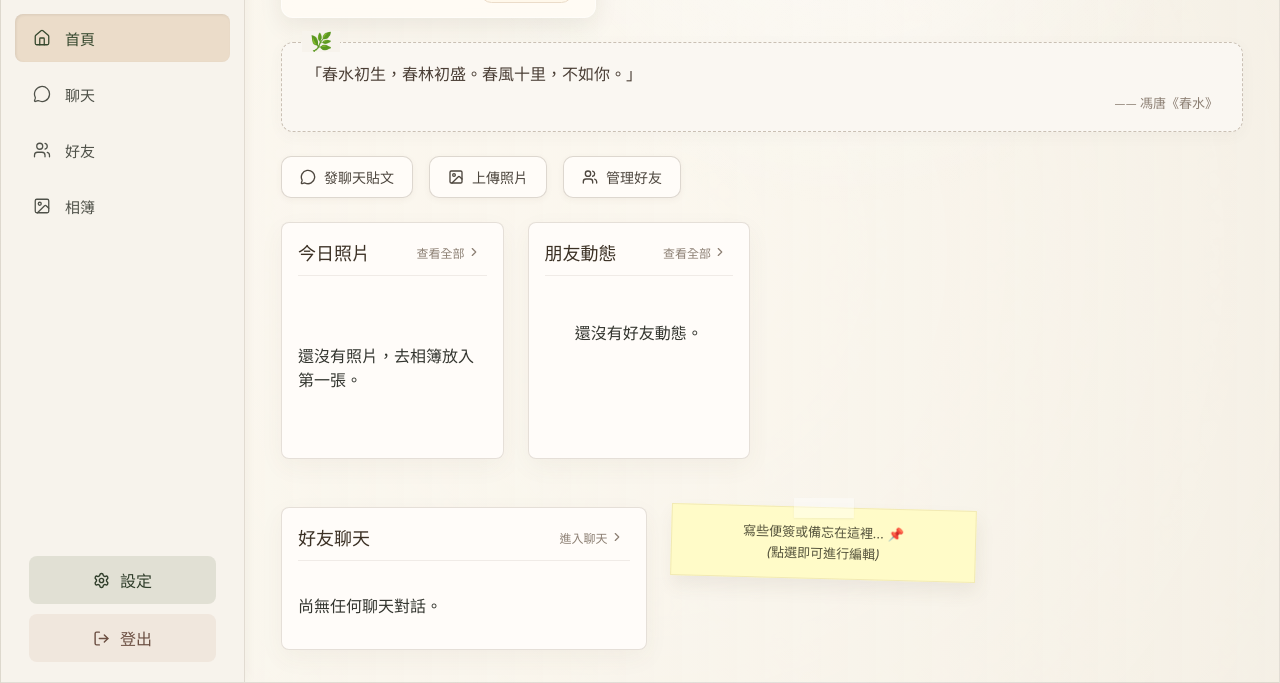
Test: Warm Desk Garden app shell › does not expose a restore-demo-data action in settings
(page scrolled)
Expected: the button "首頁" is shown, x1=15 y1=14 x2=230 y2=62
What coordinates should you click on to do the following:
click the button "設定"
I would click on:
 (122, 580)
Its box is x1=29 y1=556 x2=216 y2=604.
(page scrolled)
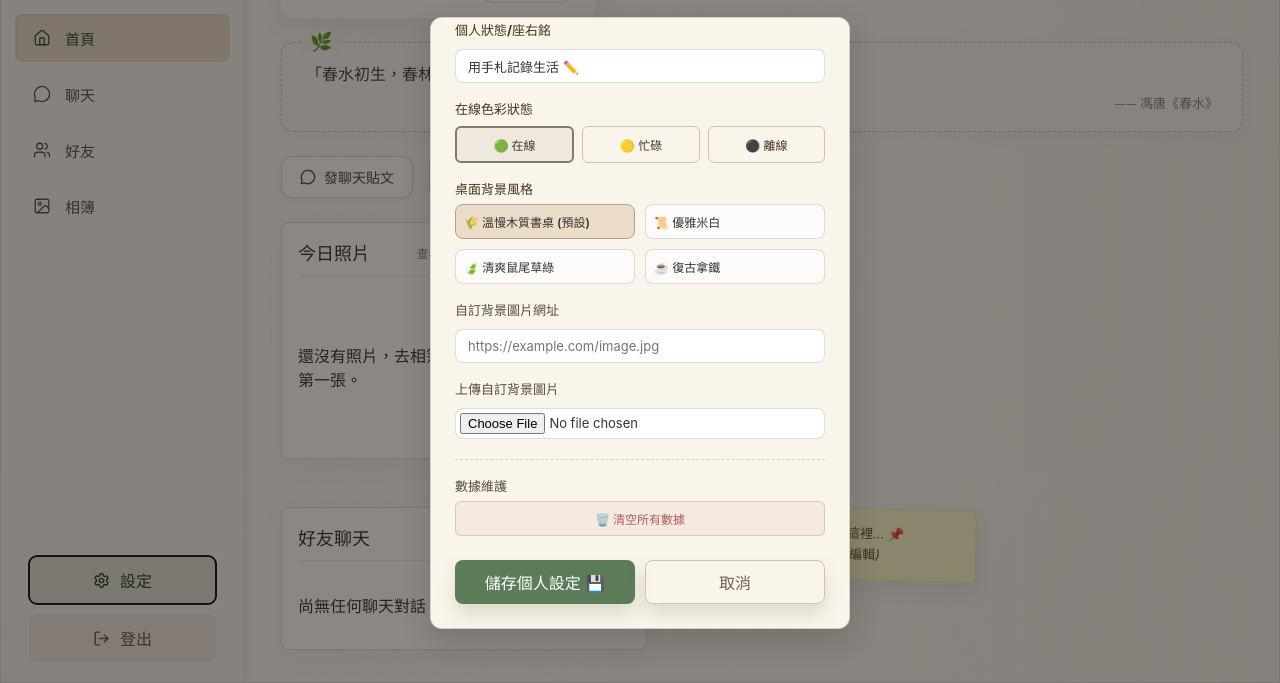
Expected: the button "🗑️ 清空所有數據" is shown, x1=455 y1=501 x2=825 y2=536
